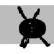not correct: (15, 4, 52, 50)
